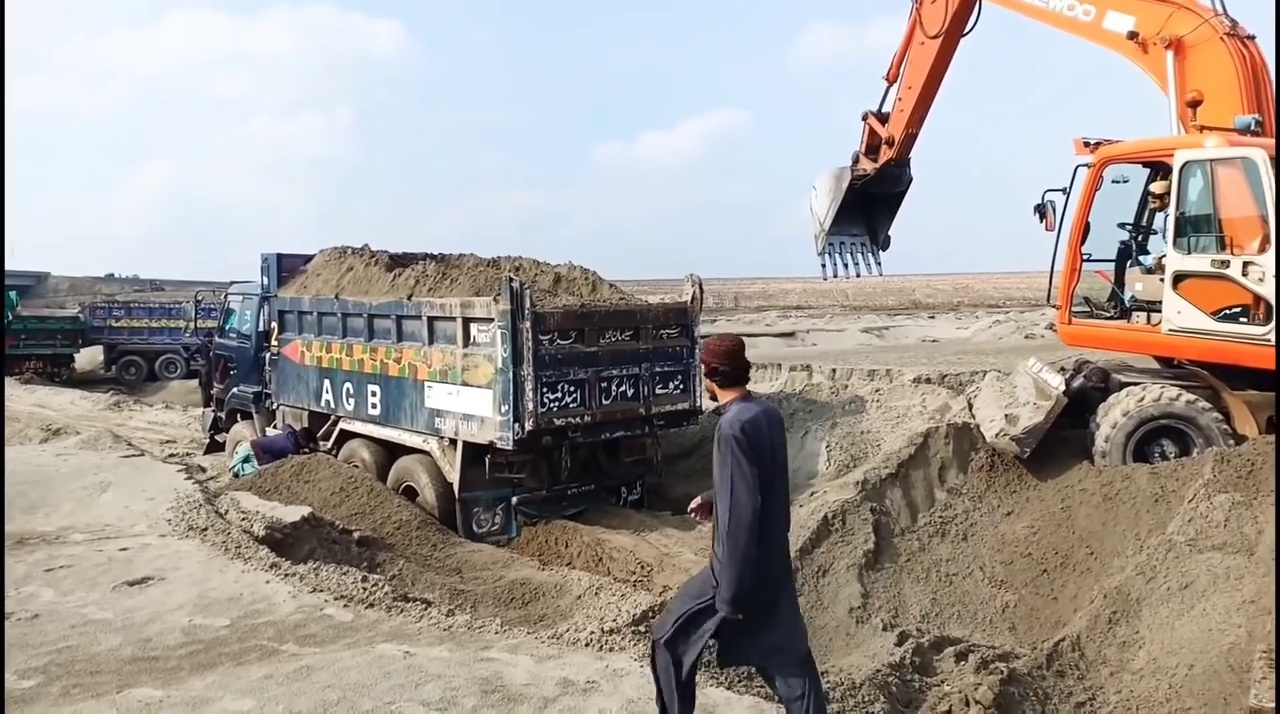excavator: (809, 1, 1277, 487)
person: (647, 331, 823, 714)
truck: (193, 252, 697, 542), (87, 292, 240, 388), (5, 287, 92, 383)
